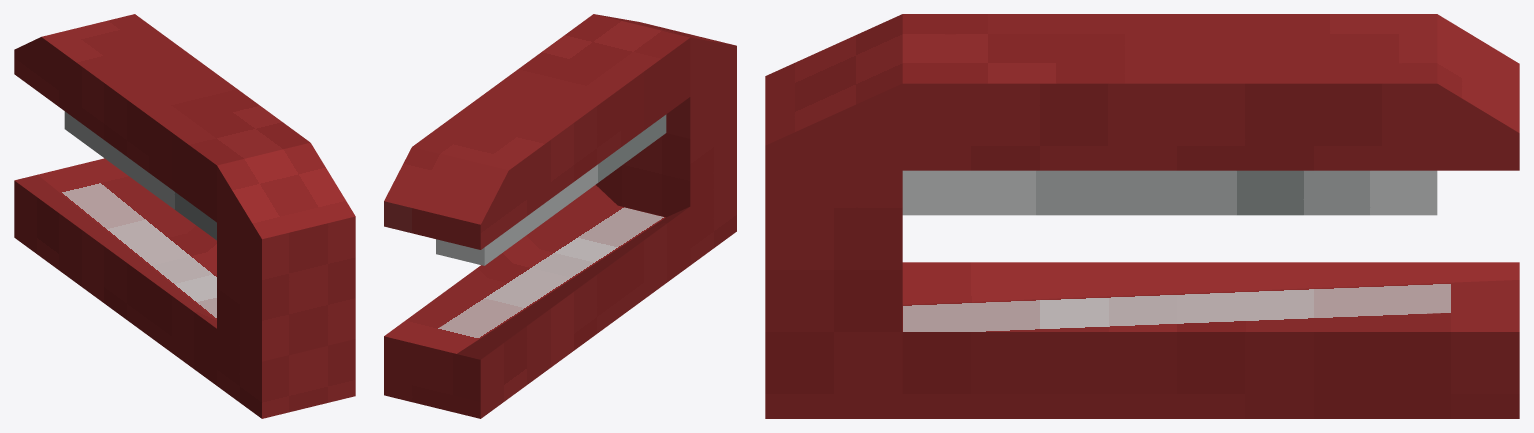
Rendered from StaplerProjectile.fbx.
3 views of the same model, side by side, from view 1: azimuth 30°, elevation 25°; view 2: azimuth 150°, elevation 25°; view 3: azimuth 270°, elevation 25° (orthographic). The views are drawn at different scales.
Visible parts, largest first — view 1: Stapler; view 2: Stapler; view 3: Stapler.
Boxes of the visible parts, x1,y1,x2,y2 form: Stapler: [14, 14, 355, 418]; Stapler: [384, 14, 736, 418]; Stapler: [765, 14, 1519, 418].
Bounding box in the file's own units: 7.5 × 16.88 × 34.38.
Materials: 1 (1 with a texture image).
